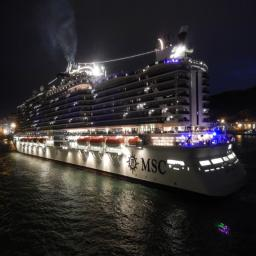cruises: (9, 37, 248, 204)
